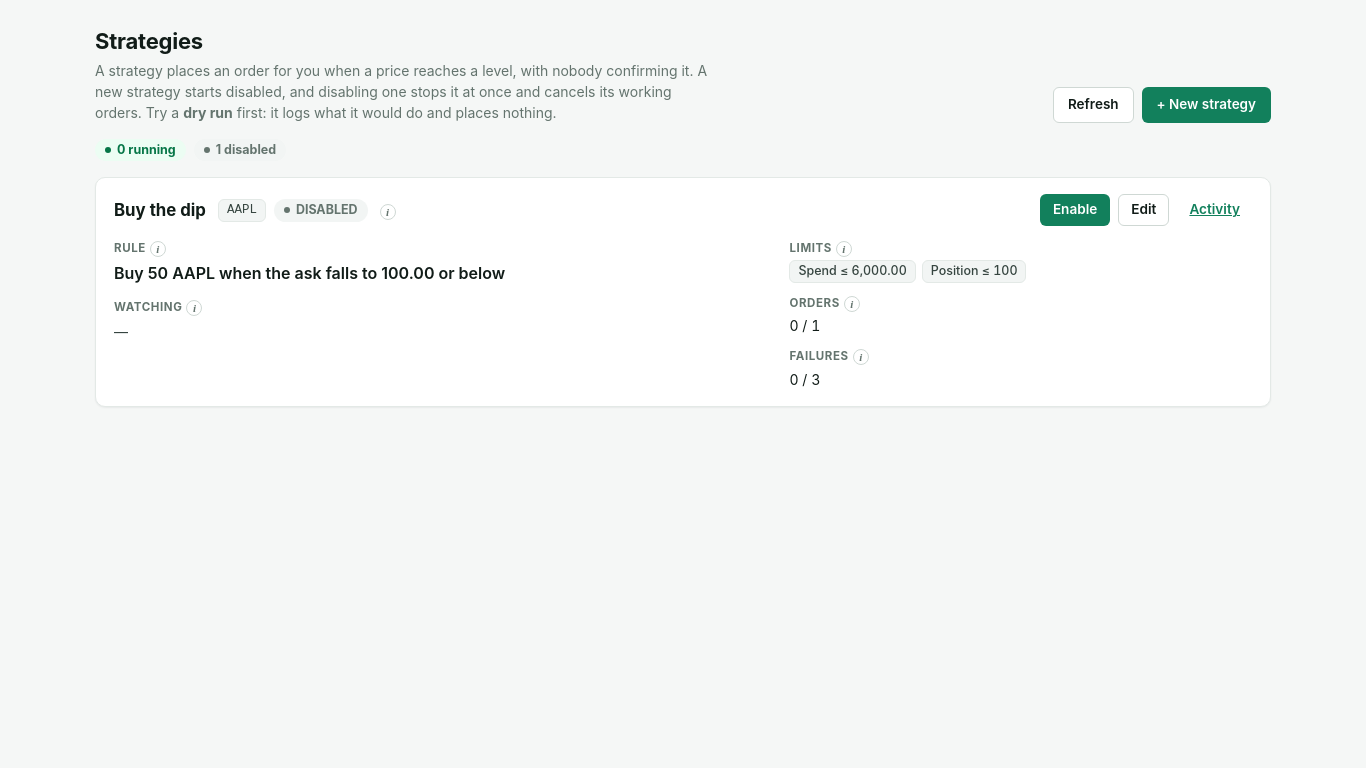
StrategiesComponent › the list › lets a disabled strategy be edited: the form opens filled in and saving rewrites it
This screenshot has width=1366, height=768.
Click the button "Edit". click: (1144, 210)
box: [1118,194,1169,226]
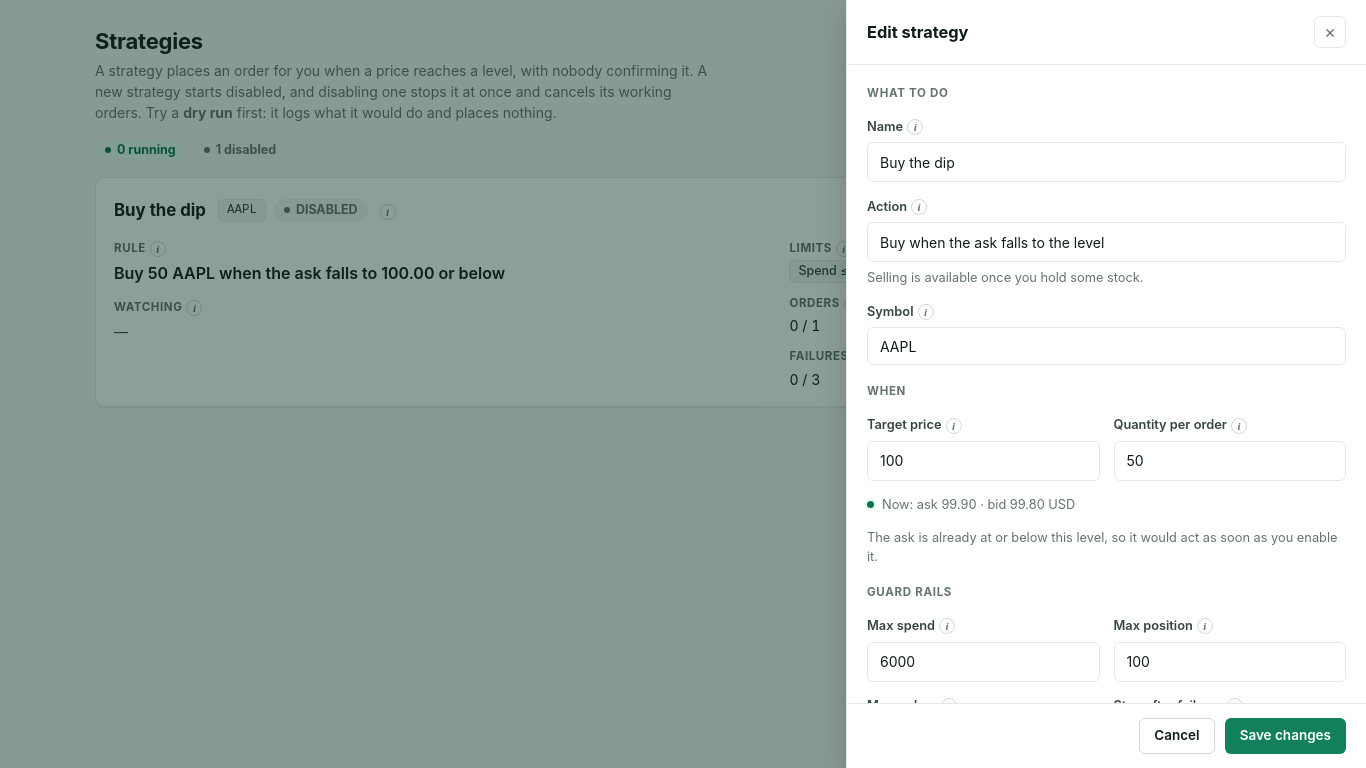
Check: the button "Save changes" is shown, box [1225,718,1346,754]
Replace the text in the number field labelled "Target price i" with "95". click: (983, 461)
box: [867,441,1100,481]
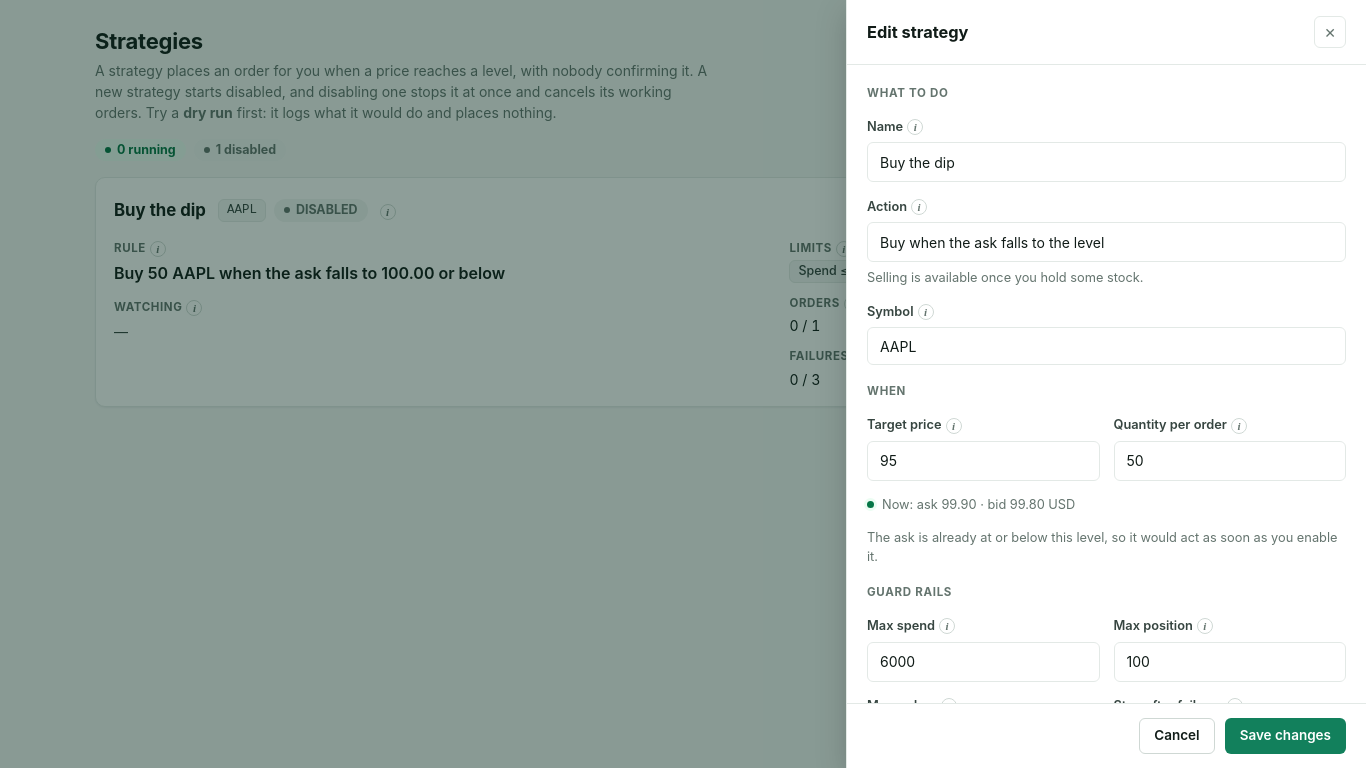
Click the button "Save changes". click: (1285, 736)
box: [1225,718,1346,754]
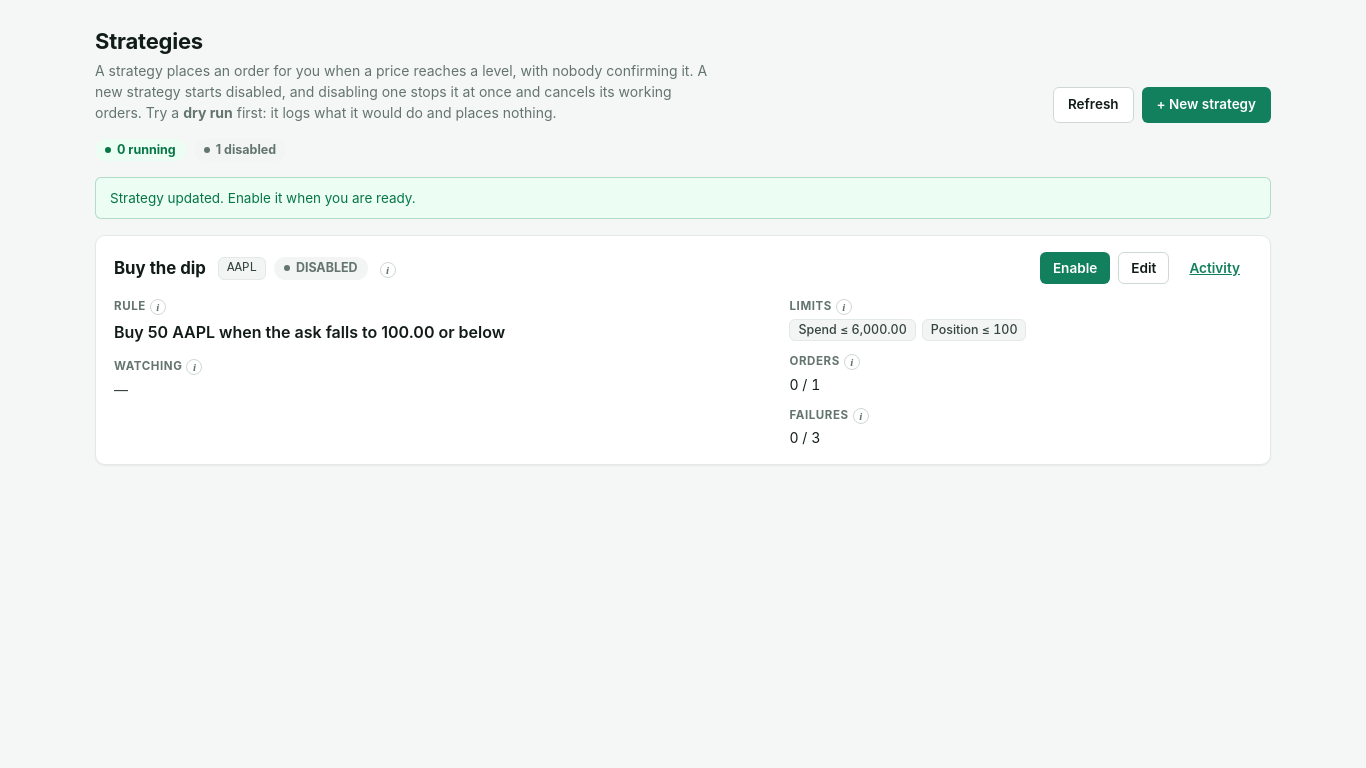
Check: the text "Strategy updated" is shown, box [110,190,416,206]
